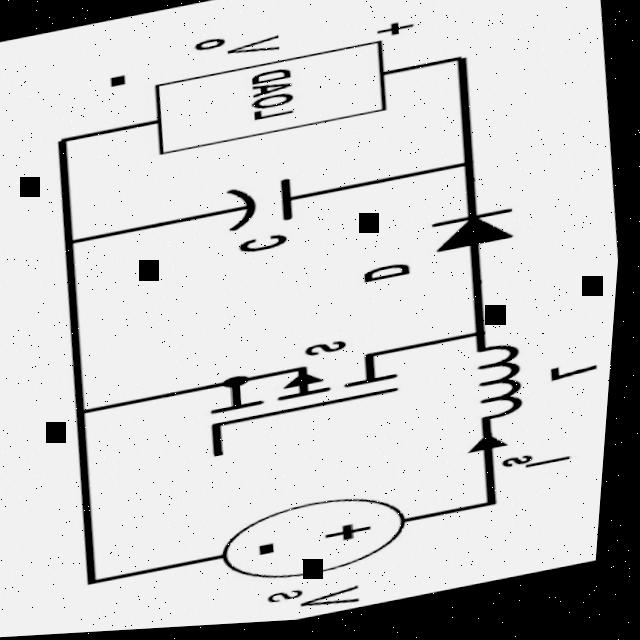capacitor: (174, 161, 340, 248)
diode: (414, 202, 548, 274)
inductor: (438, 335, 556, 447)
mosfet: (178, 320, 447, 483)
resistor: (129, 31, 414, 172)
source: (206, 481, 429, 602)
